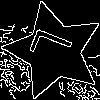L: (29, 26, 83, 69)
